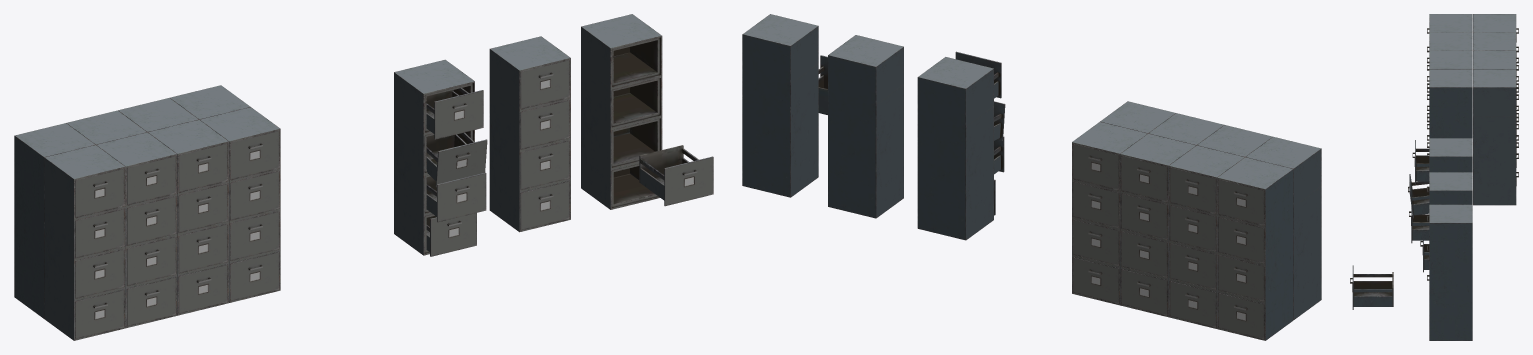
Rendered from packed_cabinet.gltf.
3 renders of one model, left to right at view 1: azimuth 30°, elevation 25°; view 2: azimuth 150°, elevation 25°; view 3: azimuth 270°, elevation 25°, orthographic. The views are drawn at different scales.
Visible parts, largest first — view 1: box_2, box_6, box, box_1, box_5, box_4, box_3, box_10, object 1, box_7, box_9, box_8; view 2: box_1, box_2, box_10, box, box_8, box_9, box_7, box_6, box_4, box_3, box_5; view 3: box_2, box_7, box_1, box_3, box, box_8, box_4, box_9, box_10, box_5, box_6, object 1.
Boxes of the visible parts, x1,y1,x2,y2 form: box_2: [581, 14, 713, 209]; box_6: [44, 145, 125, 340]; box: [489, 36, 570, 232]; box_1: [394, 59, 487, 255]; box_5: [96, 132, 177, 328]; box_4: [148, 119, 228, 315]; box_3: [200, 107, 280, 302]; box_10: [14, 123, 95, 318]; object 1: [426, 213, 476, 256]; box_7: [170, 85, 250, 119]; box_9: [66, 110, 146, 144]; box_8: [118, 98, 198, 132]; box_1: [917, 51, 1005, 240]; box_2: [742, 14, 827, 197]; box_10: [1217, 157, 1293, 340]; box: [828, 35, 903, 218]; box_8: [1120, 133, 1196, 317]; box_9: [1169, 145, 1244, 328]; box_7: [1072, 122, 1147, 305]; box_6: [1245, 136, 1321, 320]; box_4: [1148, 113, 1224, 145]; box_3: [1100, 101, 1175, 133]; box_5: [1197, 125, 1272, 156]; box_2: [1350, 204, 1472, 340]; box_7: [1473, 69, 1518, 205]; box_1: [1408, 138, 1472, 243]; box_3: [1427, 69, 1472, 147]; box: [1427, 172, 1472, 280]; box_8: [1473, 50, 1518, 167]; box_4: [1427, 50, 1472, 155]; box_9: [1473, 32, 1518, 145]; box_10: [1473, 14, 1518, 127]; box_5: [1427, 32, 1472, 140]; box_6: [1427, 14, 1472, 122]; object 1: [1420, 240, 1429, 272].
Size of the model in its own units: 4.57 by 1.2 by 1.56.
1 material, 1 textured.
